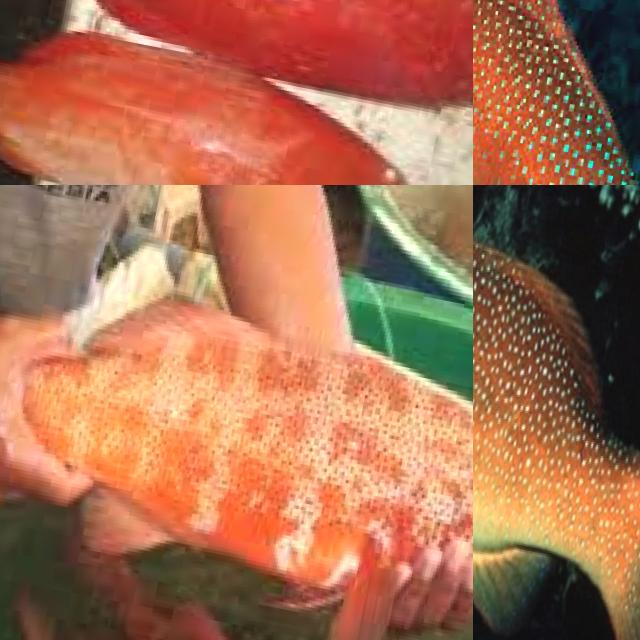Plectropomus-leopardus: (0, 240, 473, 640), (0, 0, 473, 185), (473, 185, 640, 640), (0, 0, 473, 147), (473, 0, 640, 185)
